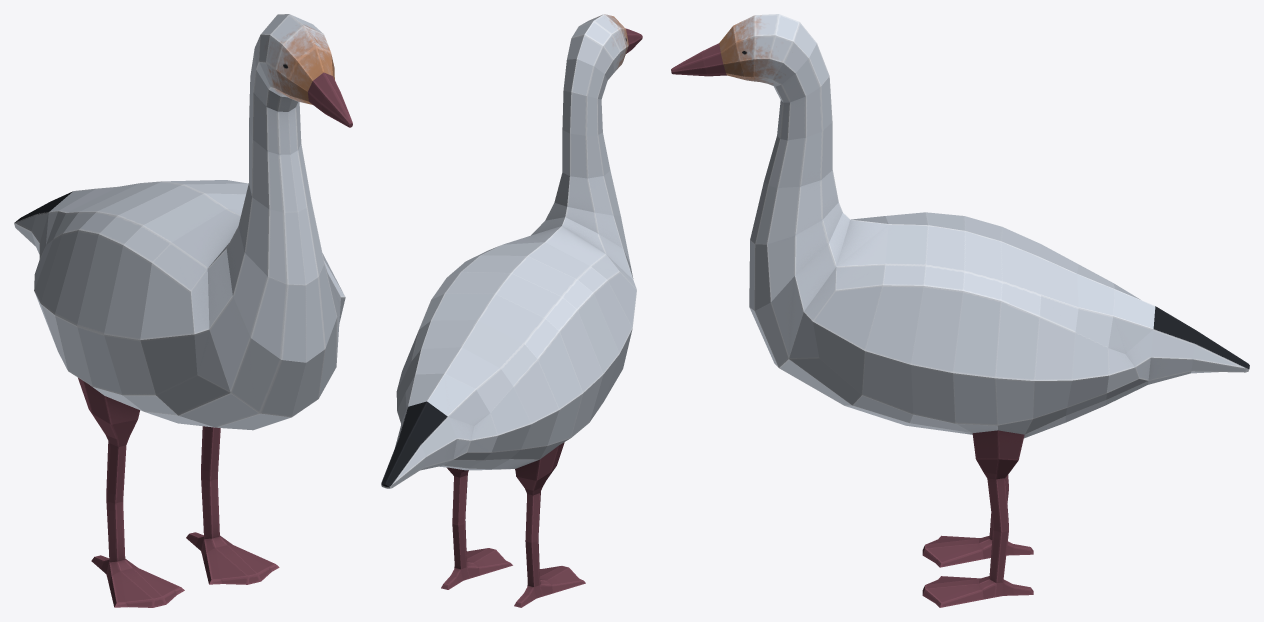
3 renders of one model, left to right at view 1: azimuth 30°, elevation 25°; view 2: azimuth 150°, elevation 25°; view 3: azimuth 270°, elevation 25°, orthographic. The views are drawn at different scales.
Parts seen in each view (by area): view 1: LesserSnowGoose_mesh; view 2: LesserSnowGoose_mesh; view 3: LesserSnowGoose_mesh.
Boxes of the visible parts, x1,y1,x2,y2 form: LesserSnowGoose_mesh: (14,14,352,607); LesserSnowGoose_mesh: (381,14,642,607); LesserSnowGoose_mesh: (671,14,1249,607).
Bounding box in the file's own units: 3.04 × 8.29 × 7.78.
1 material, 1 textured.
